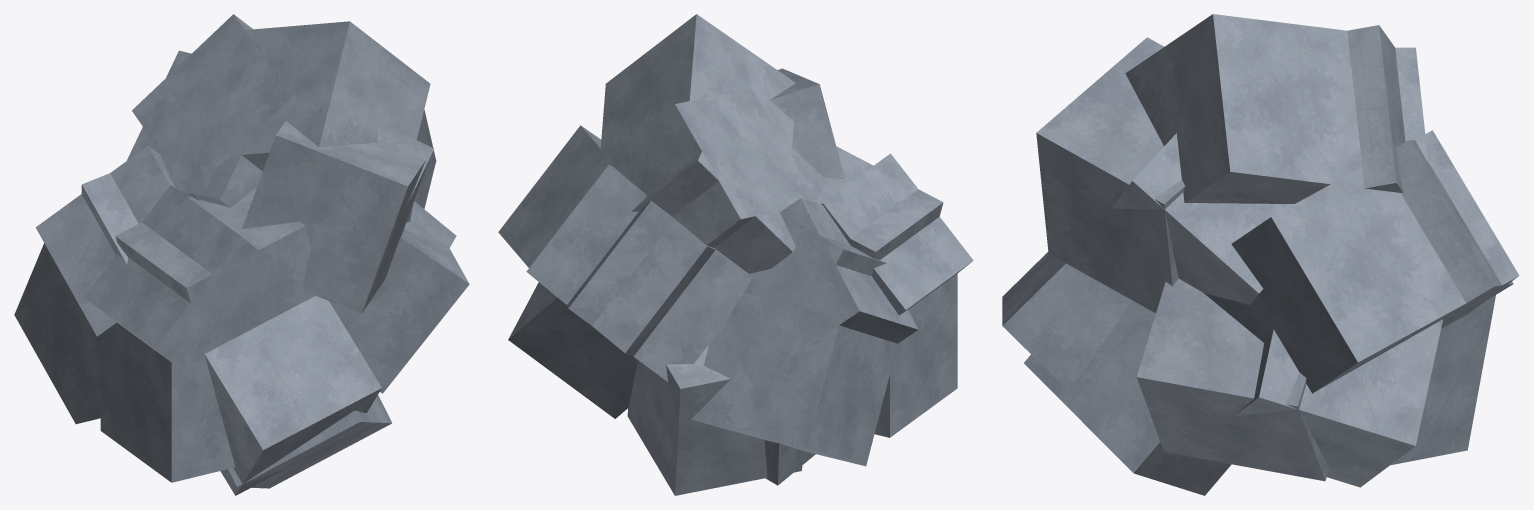
The model's file is asteroid-5.fbx.
3 views of the same model, side by side, from view 1: azimuth 30°, elevation 25°; view 2: azimuth 150°, elevation 25°; view 3: azimuth 270°, elevation 25° (orthographic). The views are drawn at different scales.
Parts seen in each view (by area): view 1: mergedBlocks; view 2: mergedBlocks; view 3: mergedBlocks.
Boxes of the visible parts, left/top/right/bottom form: mergedBlocks: left=14, top=14, right=469, bottom=495; mergedBlocks: left=498, top=14, right=973, bottom=495; mergedBlocks: left=1002, top=14, right=1519, bottom=495.
Bounding box in the file's own units: 31.67 × 34.5 × 30.45.
